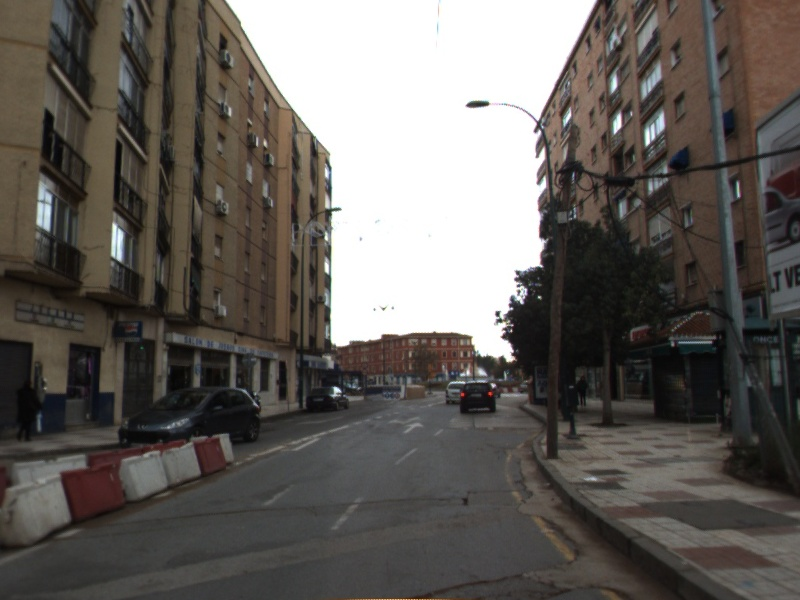STRAIGHT: (400, 420, 427, 436)
STRAIGHT_LEFT: (385, 414, 424, 427)
